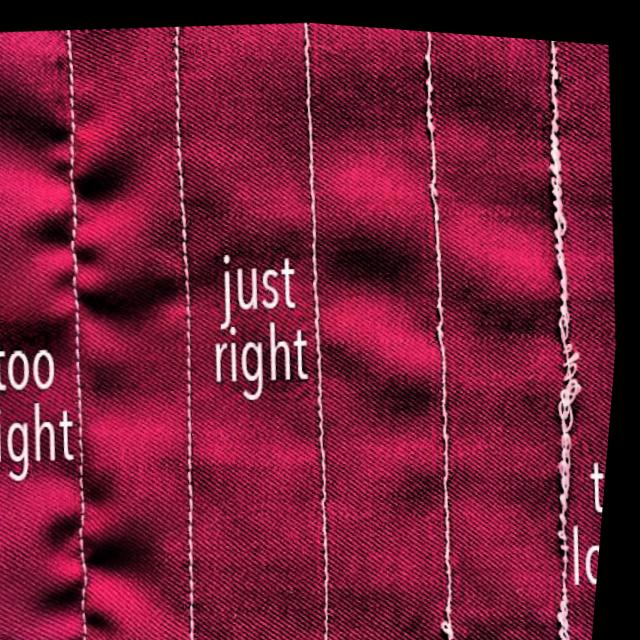Stitch: (444, 76, 632, 640)
